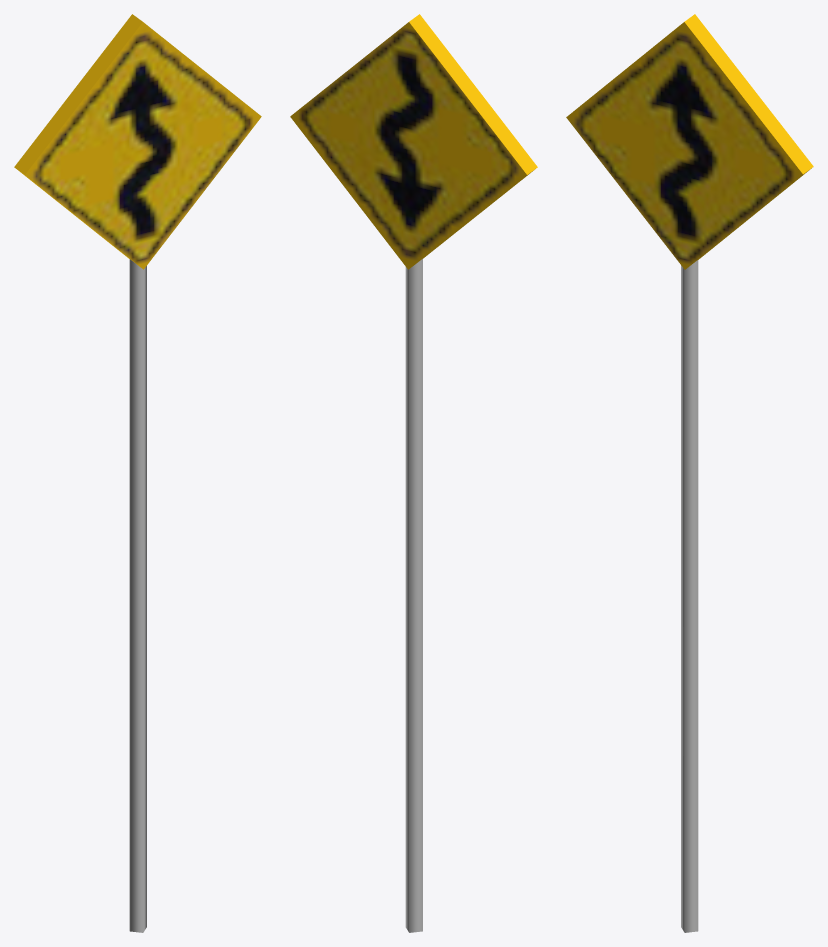
The model's file is Warning zigzag sign.fbx.
The picture shows the model from 3 angles, left to right: view 1: azimuth 30°, elevation 25°; view 2: azimuth 150°, elevation 25°; view 3: azimuth 330°, elevation 25°; orthographic projection.
Visible parts, largest first — view 1: Warning zigzag sign; view 2: Warning zigzag sign; view 3: Warning zigzag sign.
Boxes of the visible parts, left/top/right/bottom form: Warning zigzag sign: left=14, top=14, right=261, bottom=932; Warning zigzag sign: left=290, top=14, right=537, bottom=932; Warning zigzag sign: left=566, top=14, right=813, bottom=932.
Bounding box in the file's own units: 8.99 × 33.01 × 0.7061.
